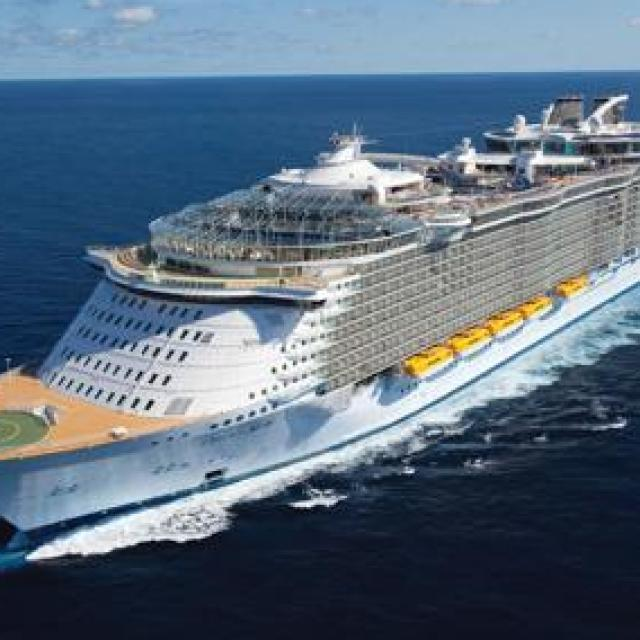passenger ship: (0, 92, 640, 530)
